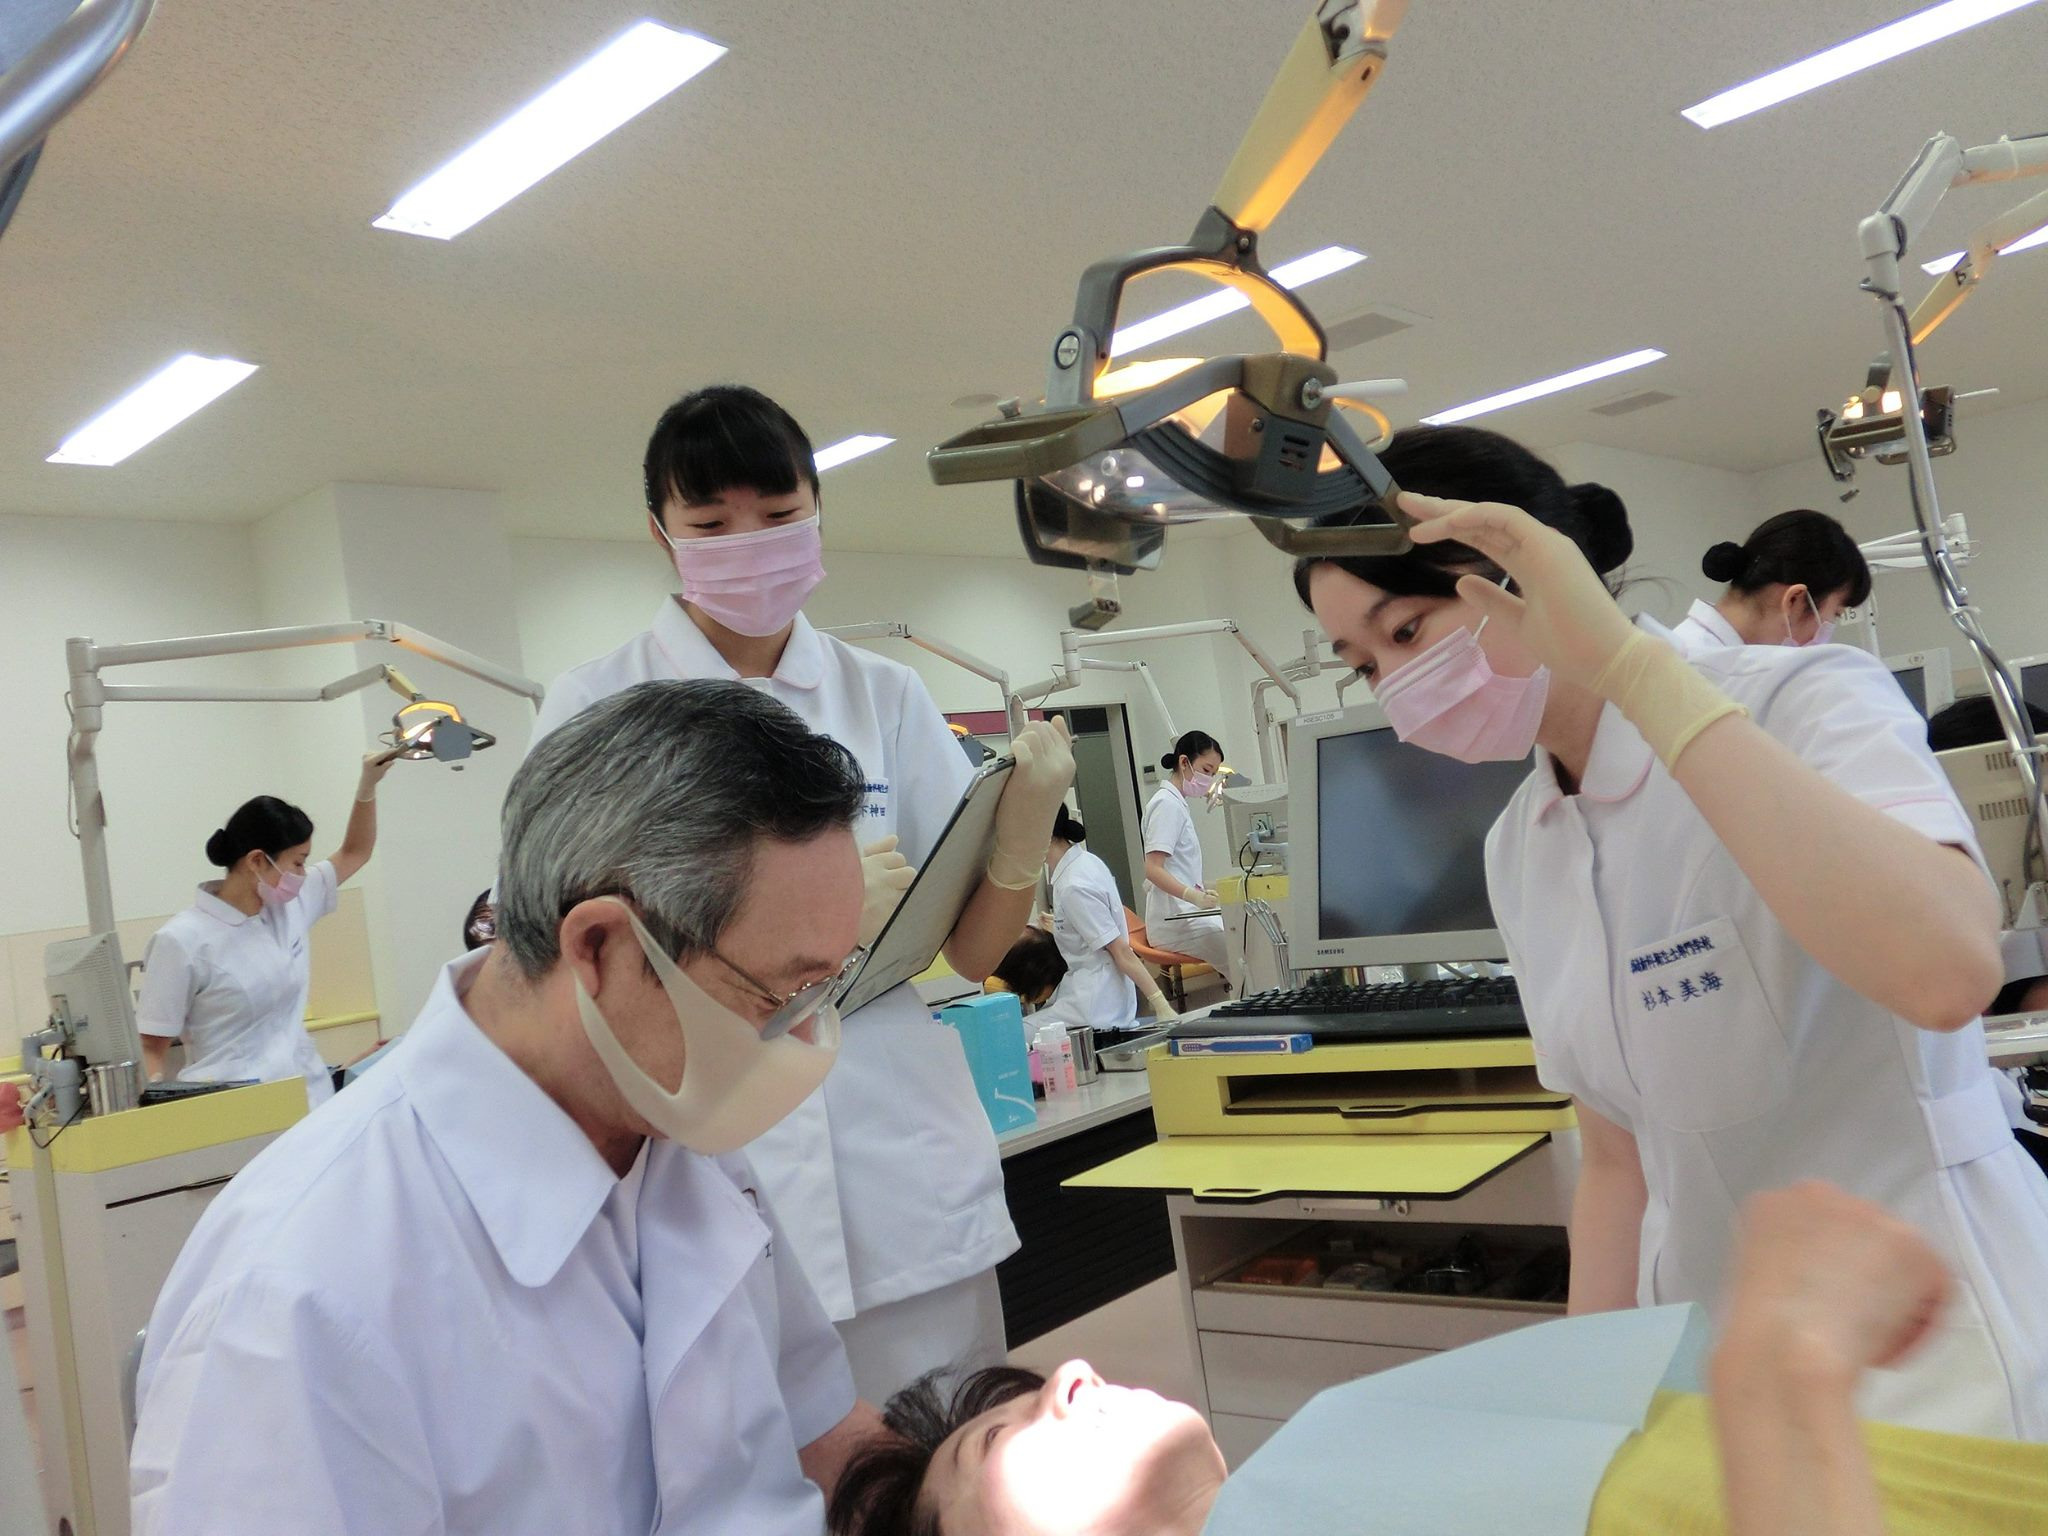mask: (643, 1000, 843, 1160), (1372, 628, 1550, 771), (676, 515, 827, 637)
